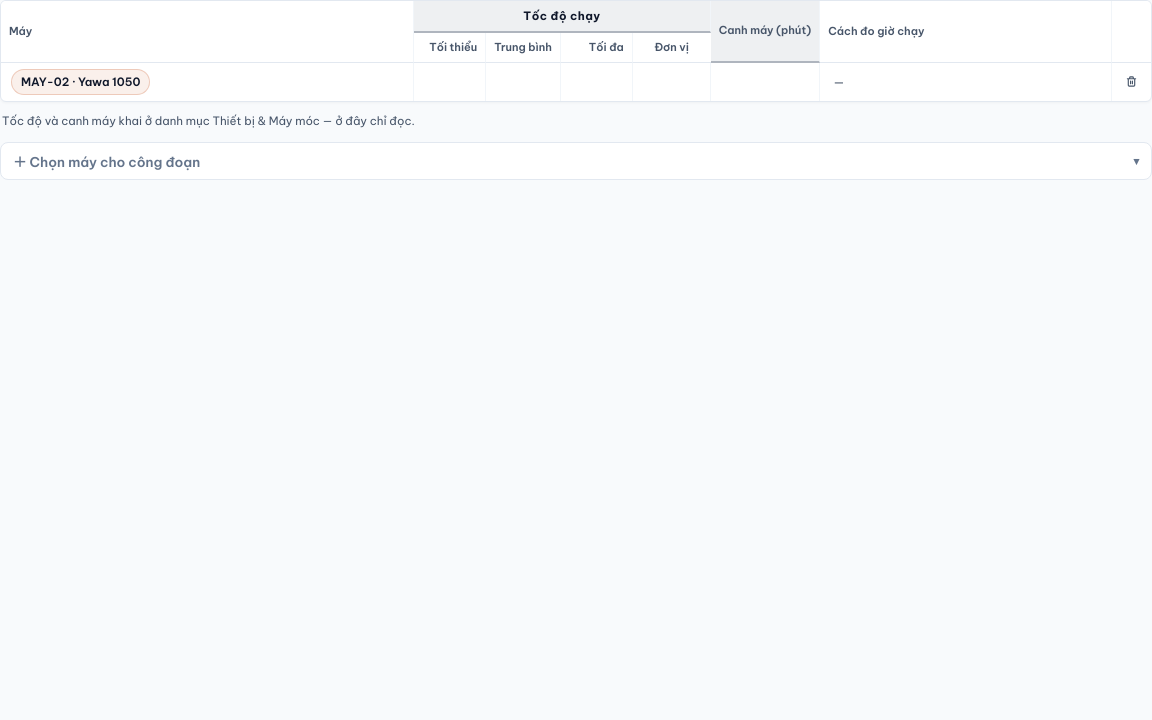
Test: MayCuaCongDoanField › công đoạn KHÔNG thuộc nhóm In thì không có ô công thức giá
This screenshot has width=1152, height=720.
Click the button "MAY-02 · Yawa 1050". click: [81, 82]
box: x1=11 y1=69 x2=150 y2=95
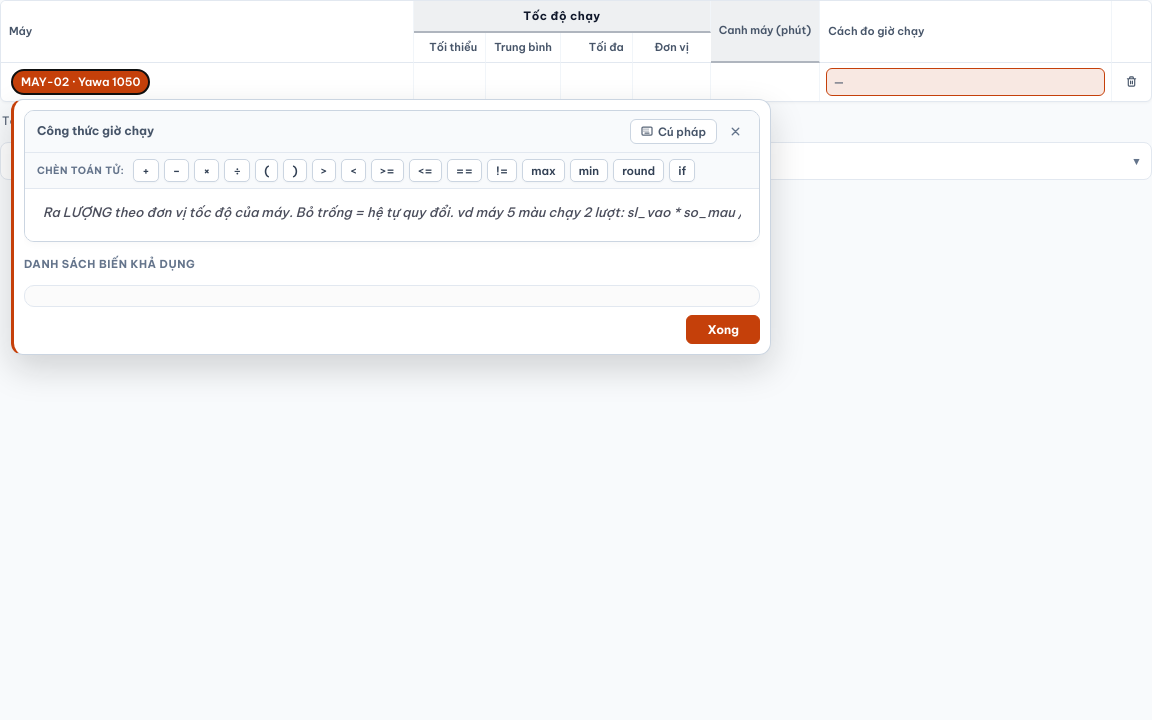
Expected: the text "Công thức giờ chạy" is shown, x1=37 y1=122 x2=154 y2=141
